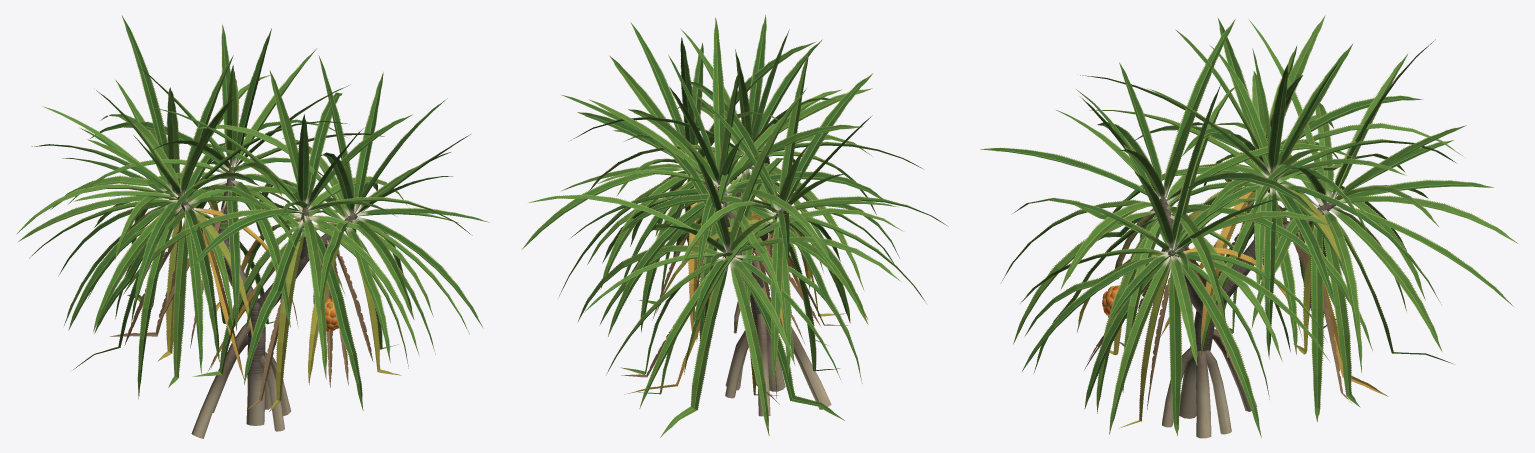
The model's file is Adan_B.gltf.
3 views of the same model, side by side, from view 1: azimuth 30°, elevation 25°; view 2: azimuth 150°, elevation 25°; view 3: azimuth 270°, elevation 25° (orthographic). The views are drawn at different scales.
Visible parts, largest first — view 1: Adan_B; view 2: Adan_B; view 3: Adan_B.
Part boxes in pixels (bbox=[...]): Adan_B: bbox=[16, 15, 489, 438]; Adan_B: bbox=[522, 14, 948, 437]; Adan_B: bbox=[980, 15, 1519, 438].
Size of the model in its own units: 2.72 by 2.34 by 2.94.
3 materials, 3 textured.
